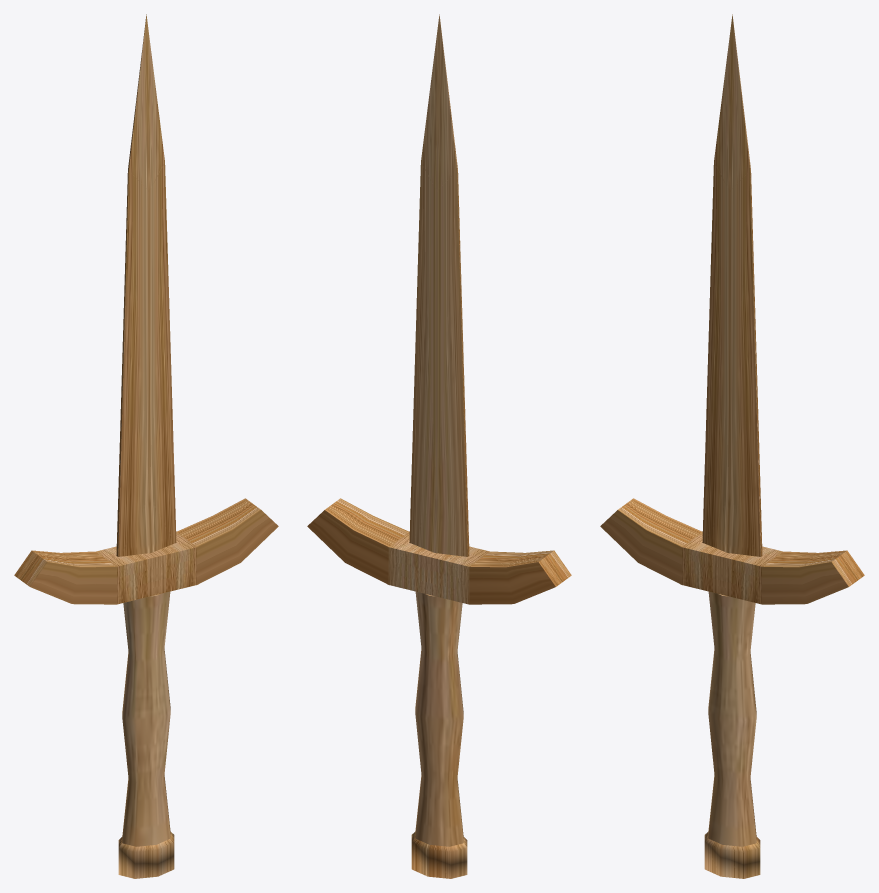
File: woodken.fbx
3 renders of one model, left to right at view 1: azimuth 30°, elevation 25°; view 2: azimuth 150°, elevation 25°; view 3: azimuth 330°, elevation 25°, orthographic.
Visible parts, largest first — view 1: pCube7; view 2: pCube7; view 3: pCube7.
Part boxes in pixels (x1,y1,x2,y2): pCube7: (14,14,278,878); pCube7: (307,14,571,878); pCube7: (600,14,864,878).
Size of the model in its own units: 1.12 by 3.68 by 0.1812.
Materials: 1 (1 with a texture image).
